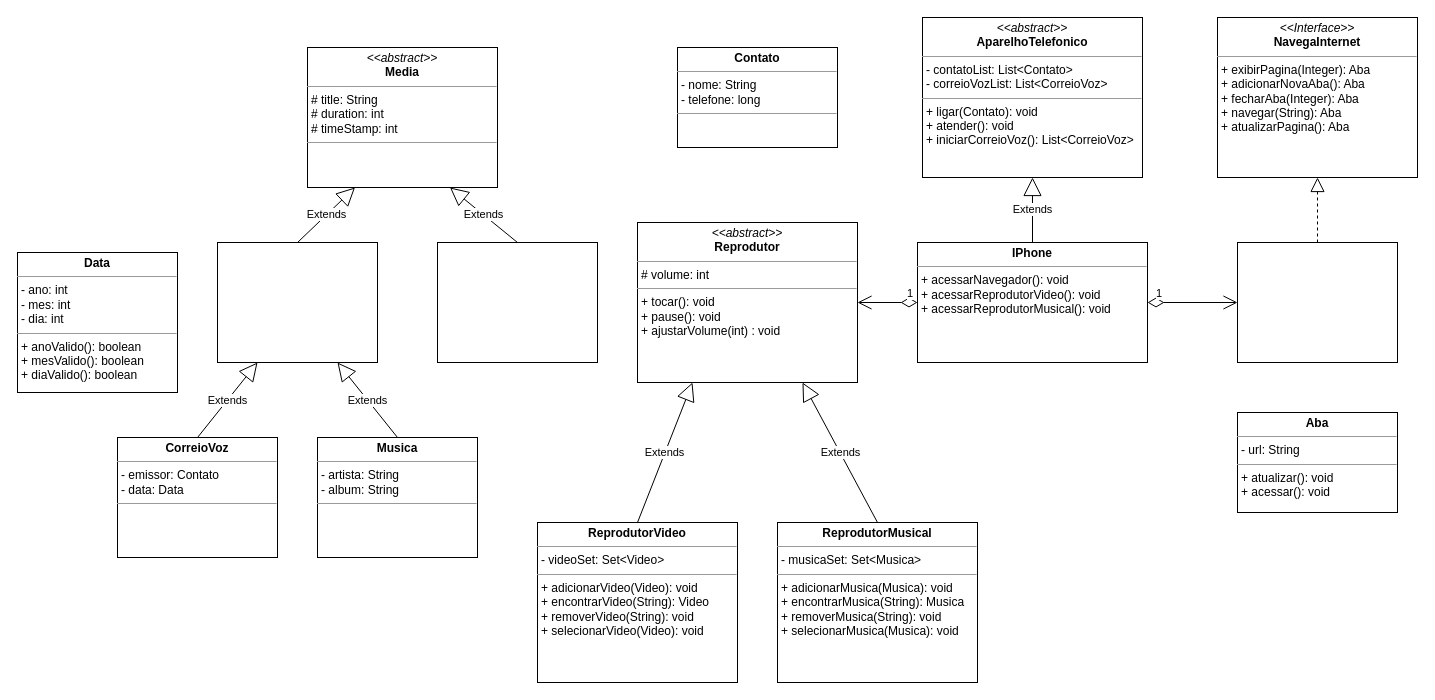
Some shapes in this 1435 by 700 pixel diagram are drawn without their labels. Here are the shapes that lost their labels. From the top down, the centre of each, then its label:
the point at 297,302: Audio
the point at 517,302: Video
the point at 1317,302: Navegador - abaList: List<Aba> - abaAtual: Aba + resetIndice(): void
